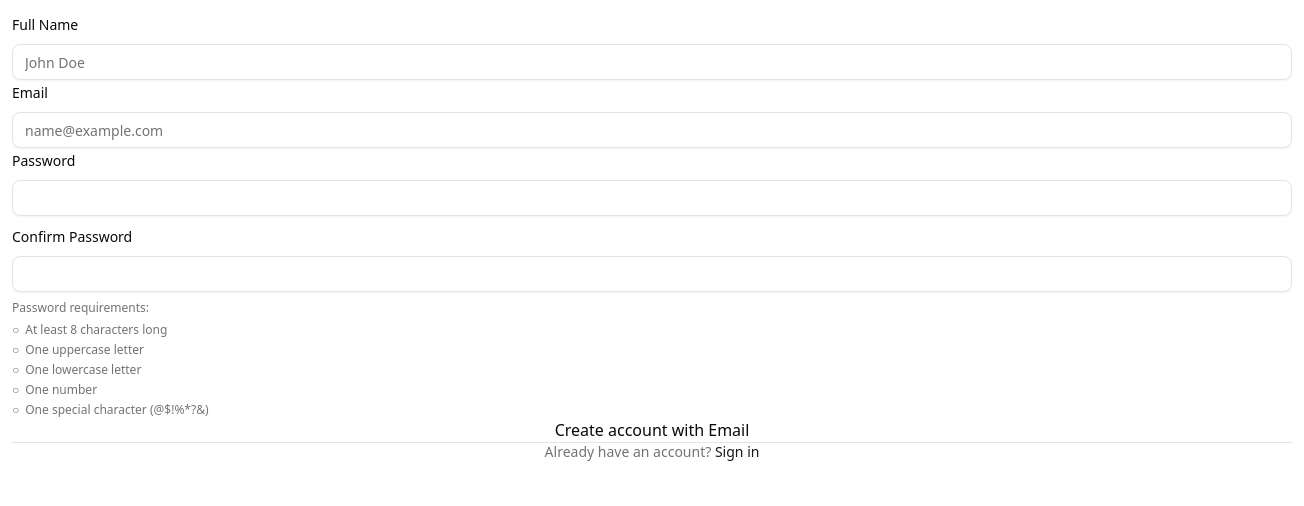
Test: RegisterForm › validates email format
Test invalid email
Type "invalid-email" into the field with test id "register-email-input".
click(652, 130); type("invalid-email")  # box [12,112,1292,148]
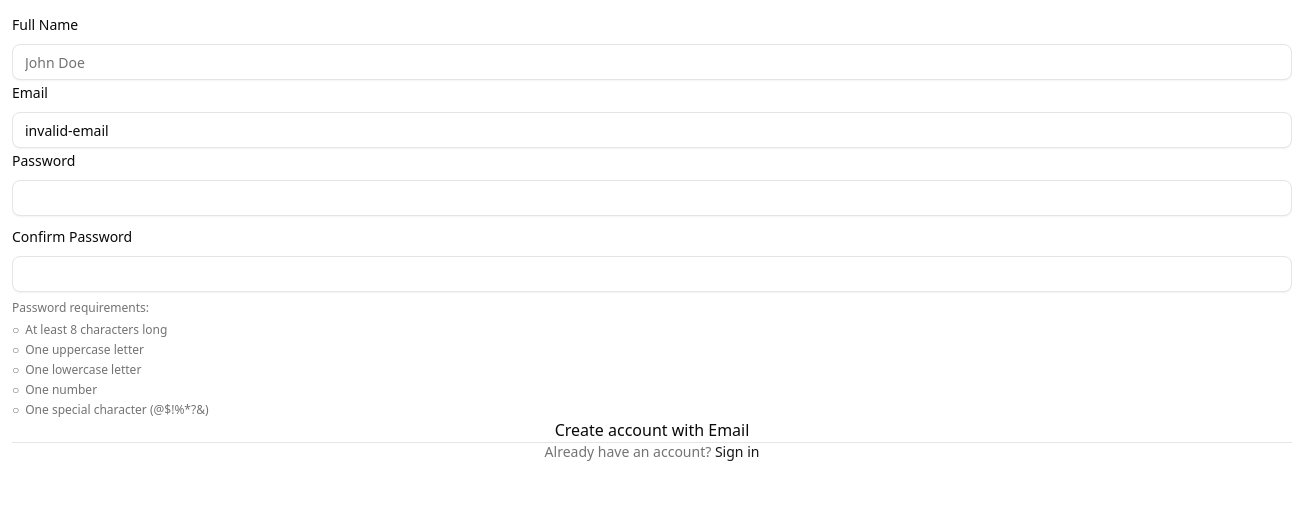
Leave the field with test id "register-email-input", box [12,112,1292,148]
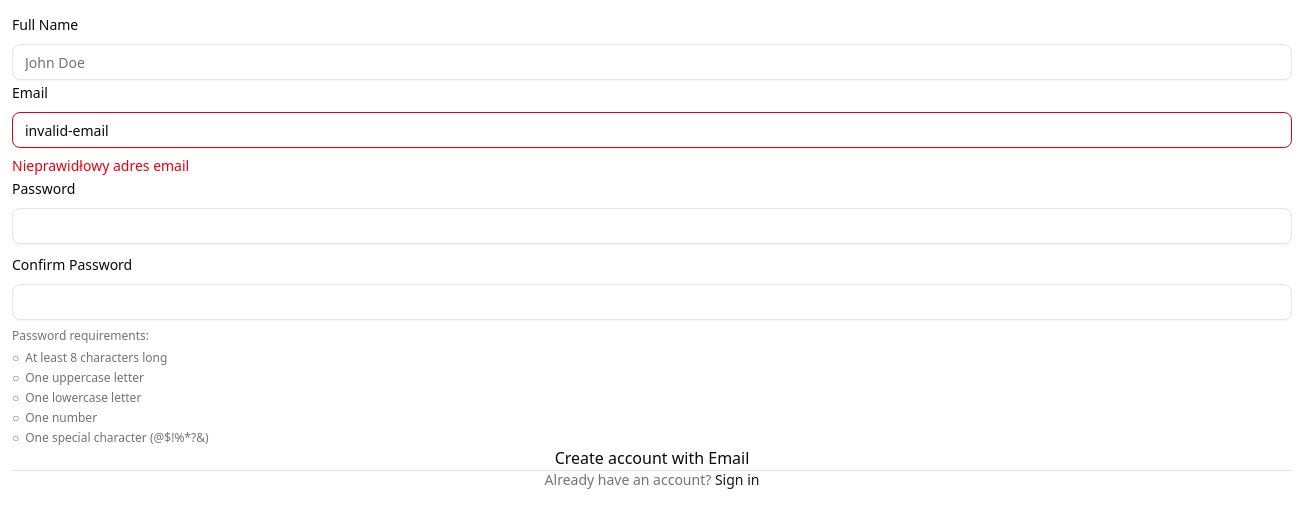
Result: the text "Nieprawidłowy adres email" is shown at [12,156,189,175]
Test valid email
Replace the text in the field with test id "register-email-input" with "test@example.com" at [652, 130], box [12,112,1292,148]
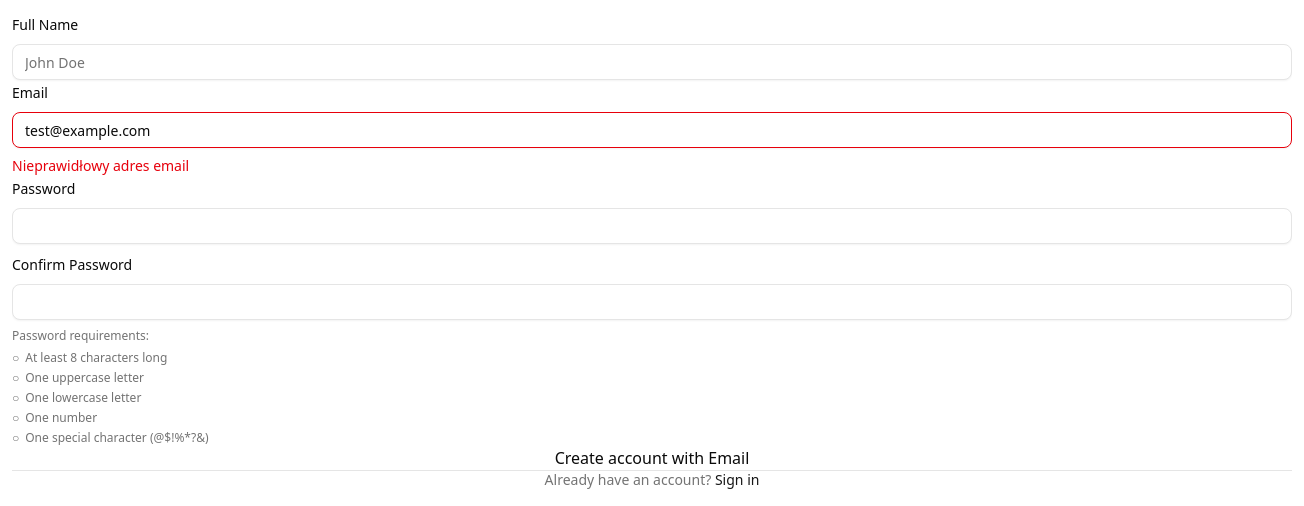
Leave the field with test id "register-email-input", box [12,112,1292,148]
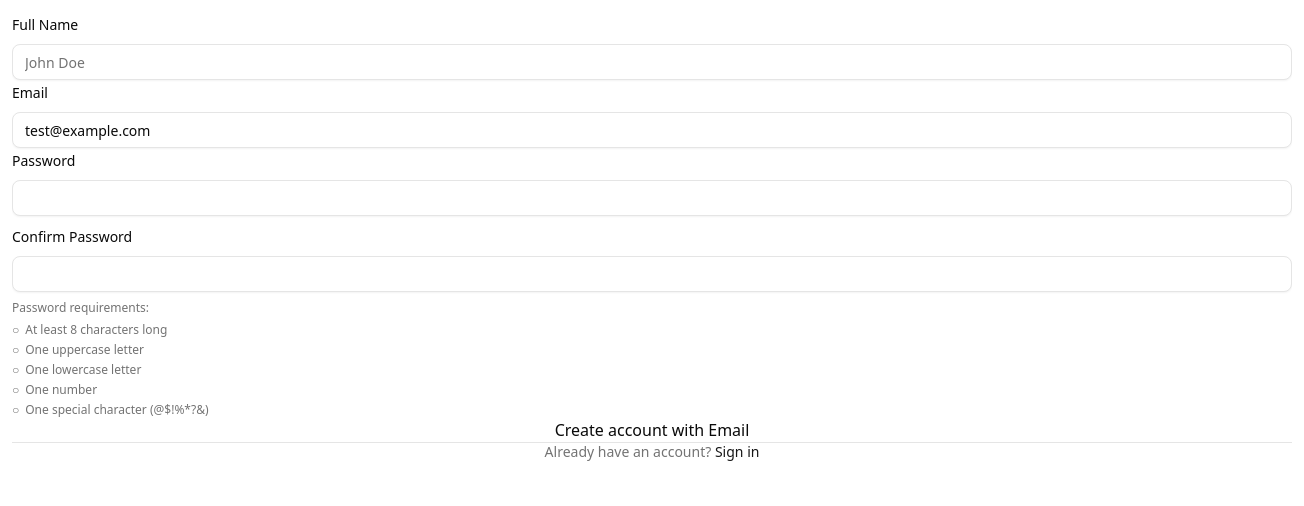
Result: the text "Nieprawidłowy adres email" is gone
